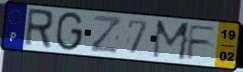7: (126, 18, 150, 56)
F: (185, 23, 219, 61)
G: (54, 11, 85, 53)
M: (150, 19, 193, 62)
R: (22, 7, 55, 51)
Z: (89, 14, 123, 55)
